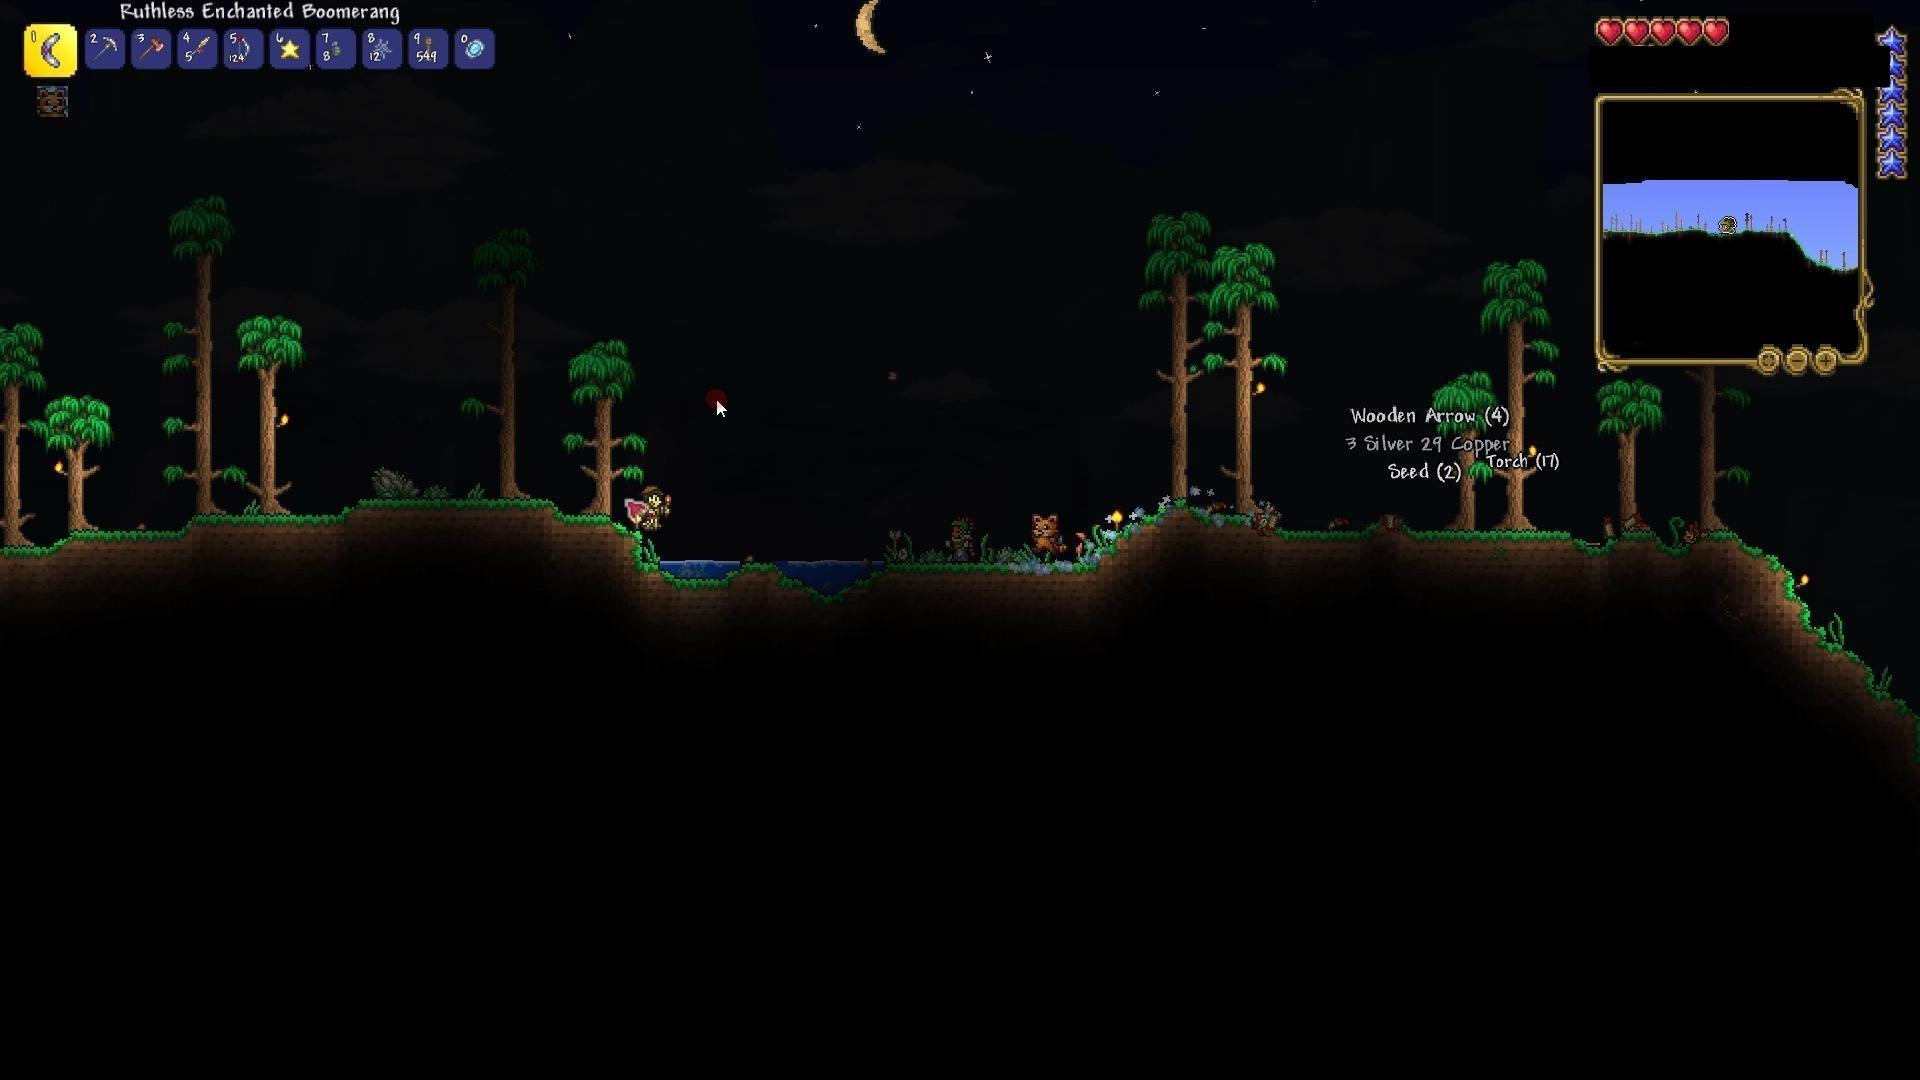dirt: (1733, 538, 1920, 735), (1155, 497, 1742, 554), (651, 551, 880, 612), (0, 506, 218, 567), (345, 487, 568, 537), (186, 488, 367, 549), (870, 550, 1098, 592), (1069, 497, 1164, 592), (564, 514, 647, 570)
heart: (1702, 17, 1733, 51), (1593, 16, 1626, 46), (1676, 15, 1704, 50), (1650, 16, 1676, 49), (1625, 15, 1651, 44)
liquid: (771, 545, 876, 580), (647, 545, 745, 580)
tree: (1130, 202, 1211, 509), (1213, 239, 1284, 498), (237, 305, 310, 535), (1487, 243, 1545, 525), (0, 310, 55, 553), (559, 338, 626, 516), (55, 398, 115, 554), (1600, 382, 1650, 525)
